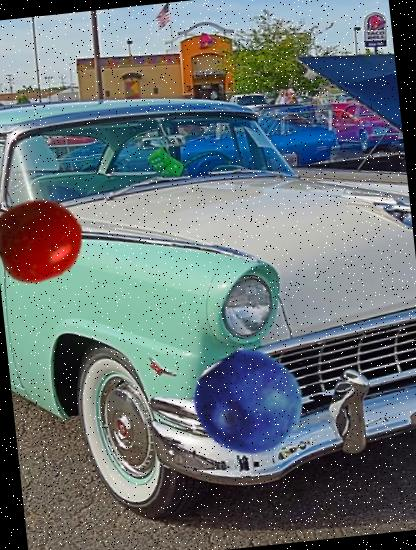Huckleberry: (190, 344, 308, 462)
Tomato: (0, 192, 88, 288)
